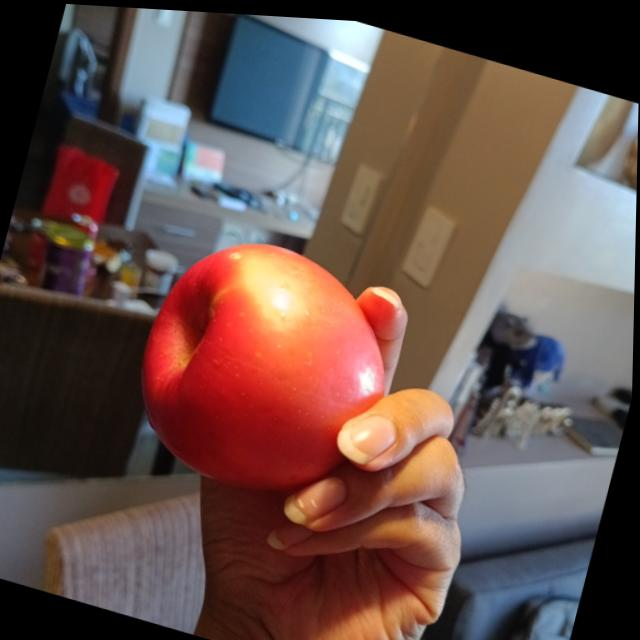apple: (121, 213, 413, 514)
